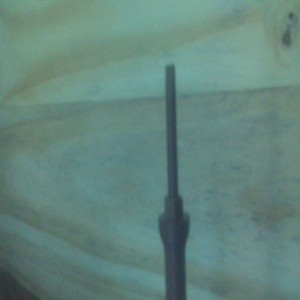obeng: (157, 62, 190, 300)
